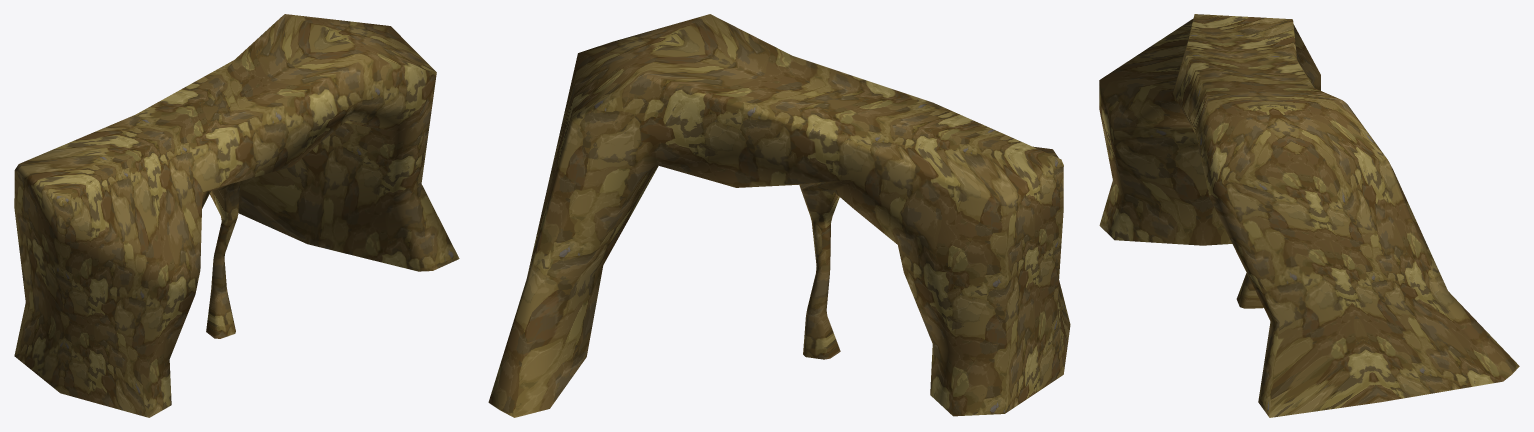
File: arch.fbx
3 renders of one model, left to right at view 1: azimuth 30°, elevation 25°; view 2: azimuth 150°, elevation 25°; view 3: azimuth 270°, elevation 25°, orthographic. The views are drawn at different scales.
Parts seen in each view (by area): view 1: Arch:Arch; view 2: Arch:Arch; view 3: Arch:Arch.
Boxes of the visible parts, box(x1,y1,x2,y2) form: Arch:Arch: box(14, 14, 459, 417); Arch:Arch: box(488, 14, 1070, 417); Arch:Arch: box(1099, 14, 1519, 417).
Bounding box in the file's own units: 0.995 × 0.5636 × 0.8324.
